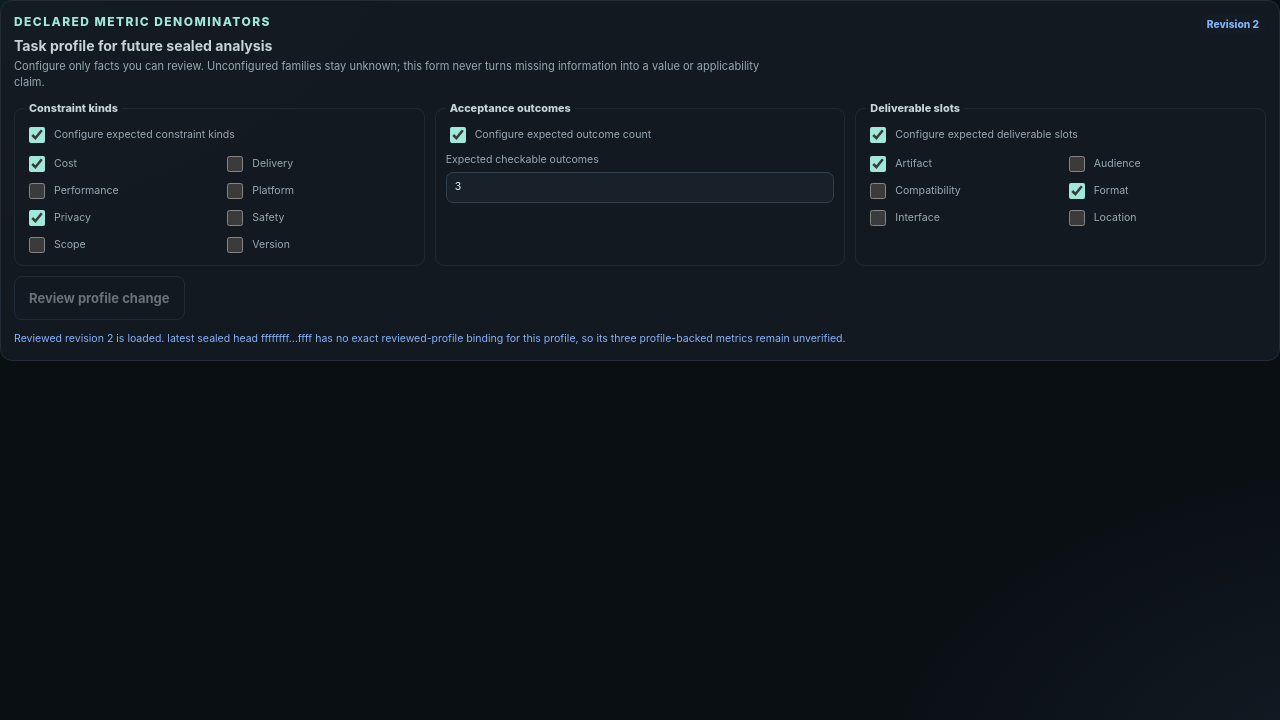
DeclaredTaskProfilePanel › requires a separate confirmation and saves sorted closed values against the exact revision
Later steps or results of the test are not shown.
Expected: the text "Revision 2" is shown, [1200,14,1266,34]
Click the checkbox labelled "Safety": coordinates (235, 218) [227,210,243,226]
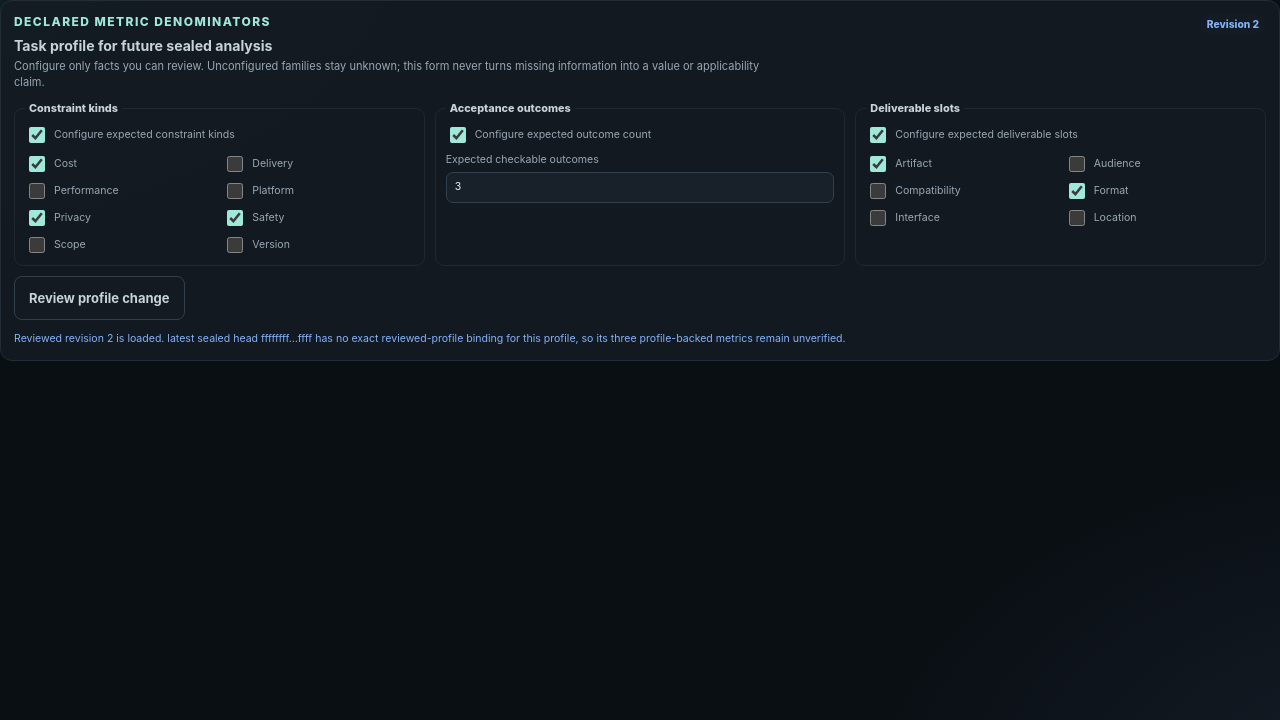
Replace the text in the number field labelled "Expected checkable outcomes" with "4": coordinates (640, 188) [446,172,834,203]
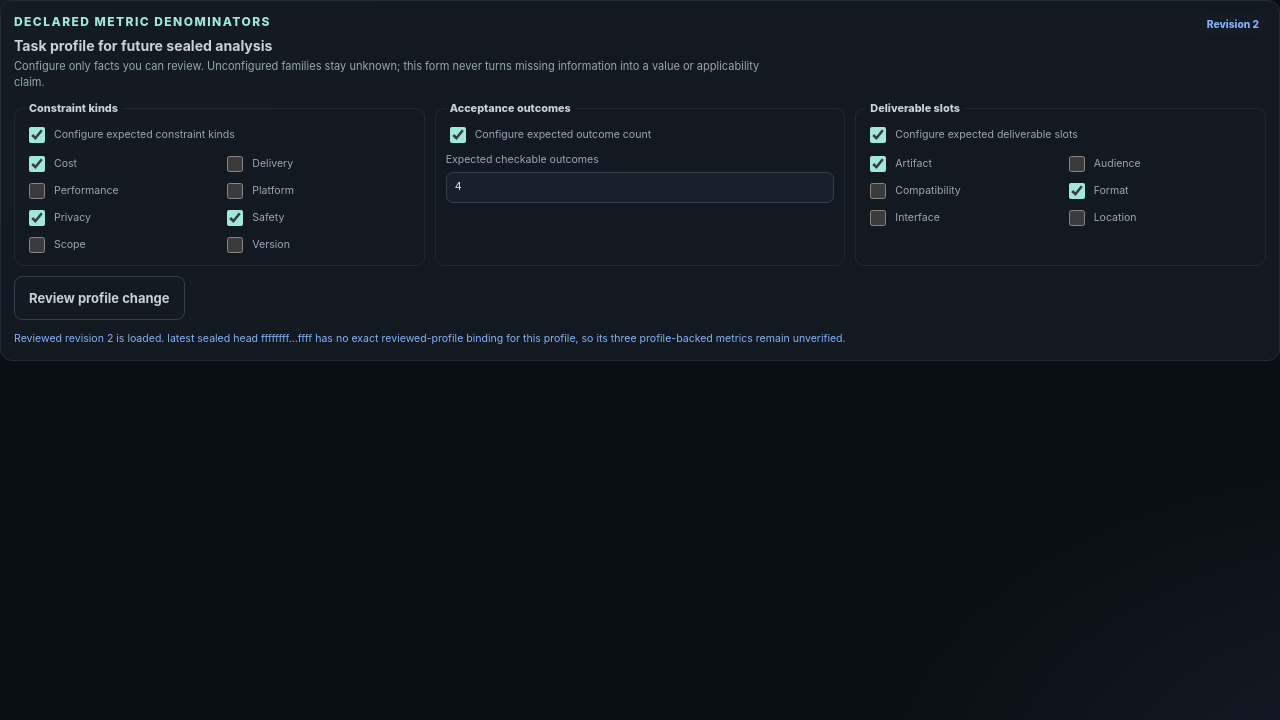
Click the checkbox labelled "Location": coordinates (1077, 218) [1069,210,1085,226]
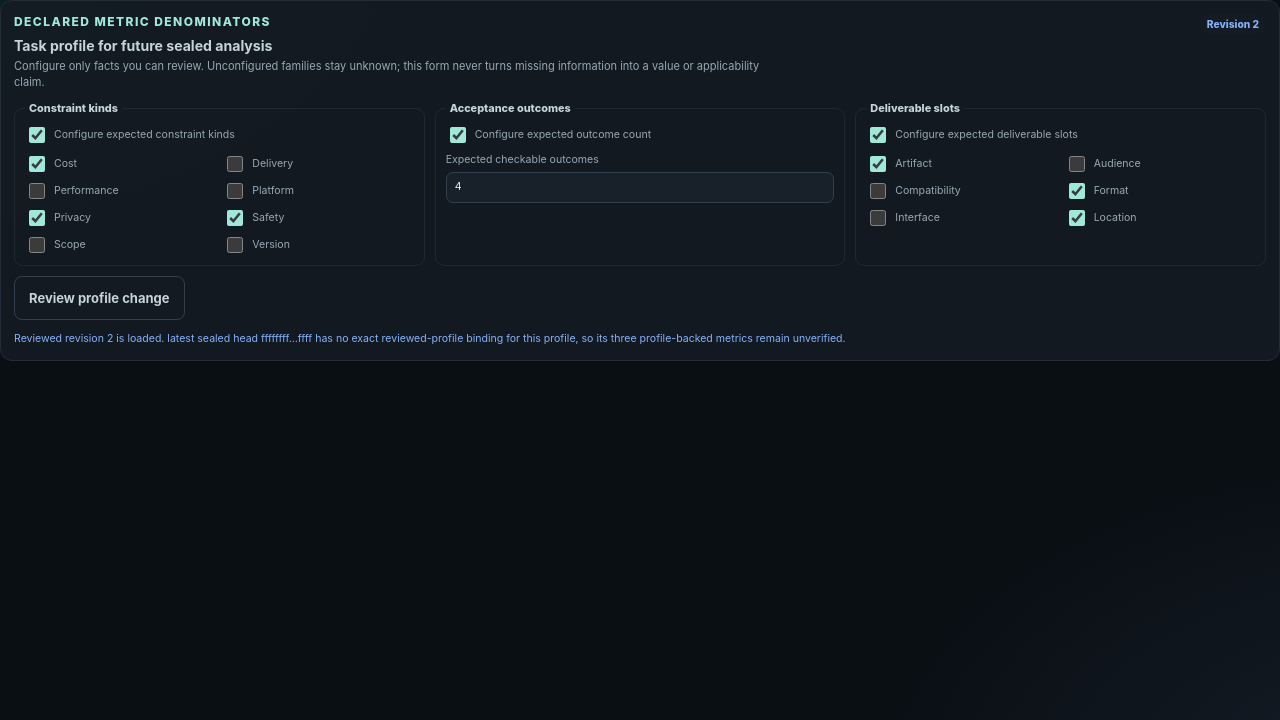
Click the button "Review profile change": coordinates (99, 298) [14,276,184,320]
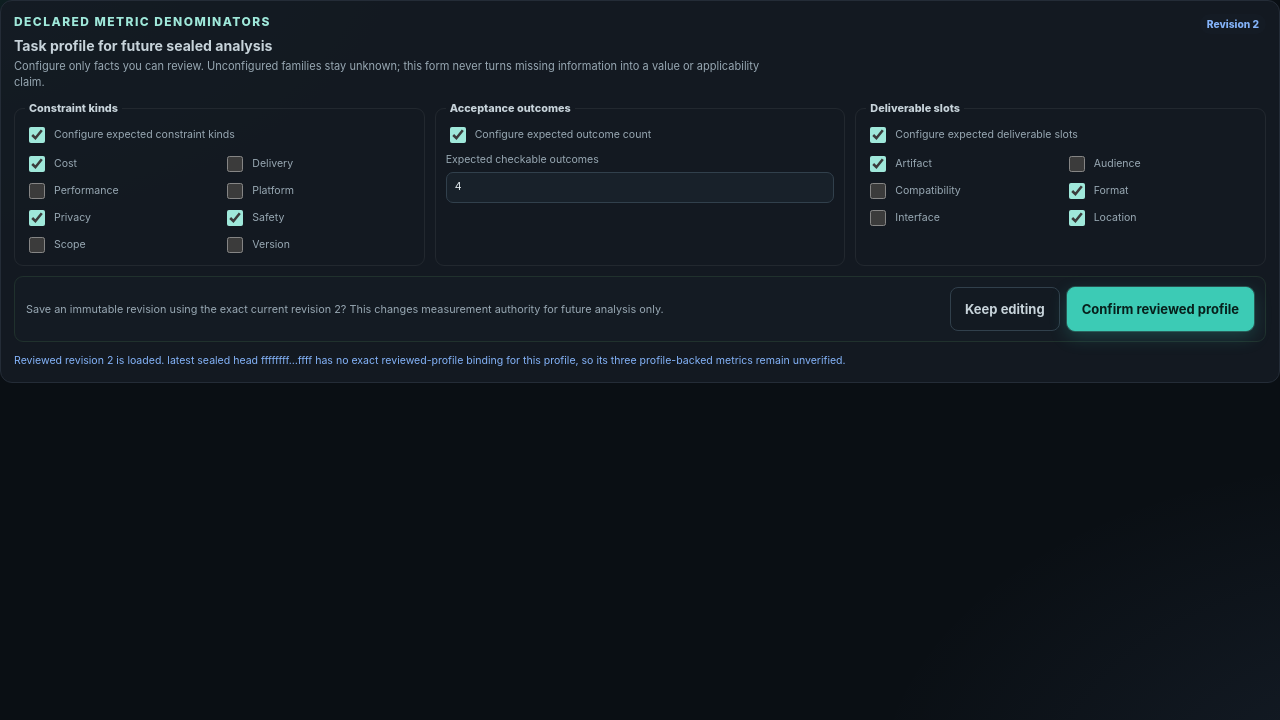
Now the element named "Confirm reviewed task profile" shows "exact current revision 2", box [14,276,1266,342]
Click the button "Confirm reviewed profile": coordinates (1160, 309) [1067,287,1254,331]
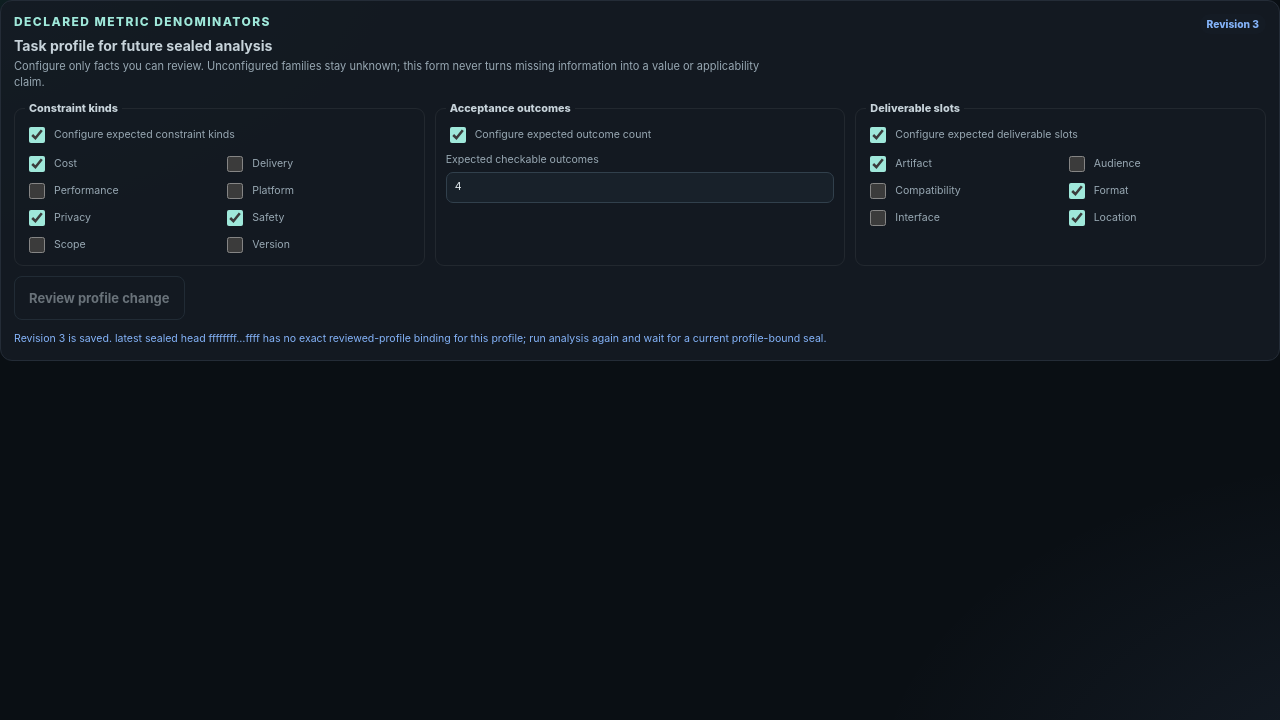
Now the text "current profile-bound seal" is shown, box [14,332,826,345]
